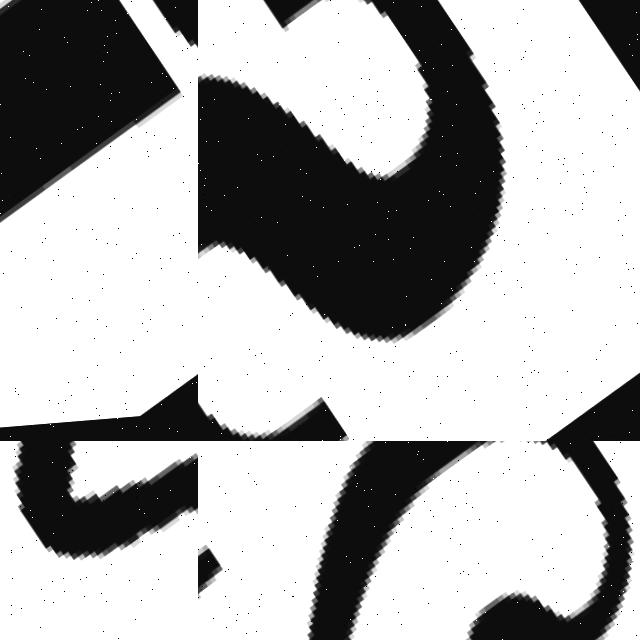2: (198, 441, 640, 640)
I: (0, 0, 198, 391)
N: (0, 441, 198, 640)
S: (198, 0, 640, 441)
